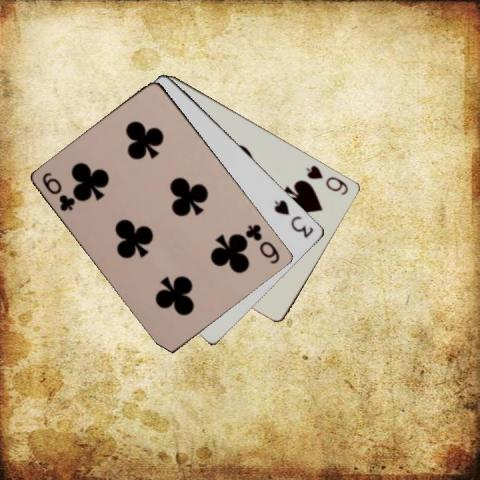3s: (272, 197, 316, 239)
6c: (243, 221, 282, 265), (40, 168, 77, 212)
6s: (303, 162, 350, 197)
